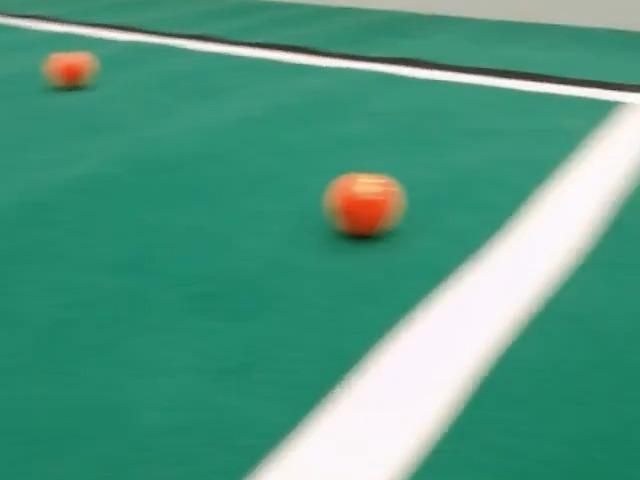Ball: (323, 172, 405, 237), (42, 51, 98, 88)
